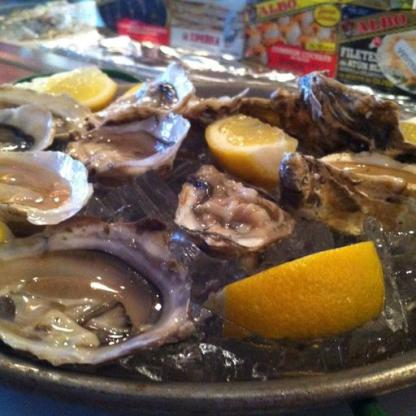oyster: (0, 214, 190, 361), (179, 166, 290, 254)
